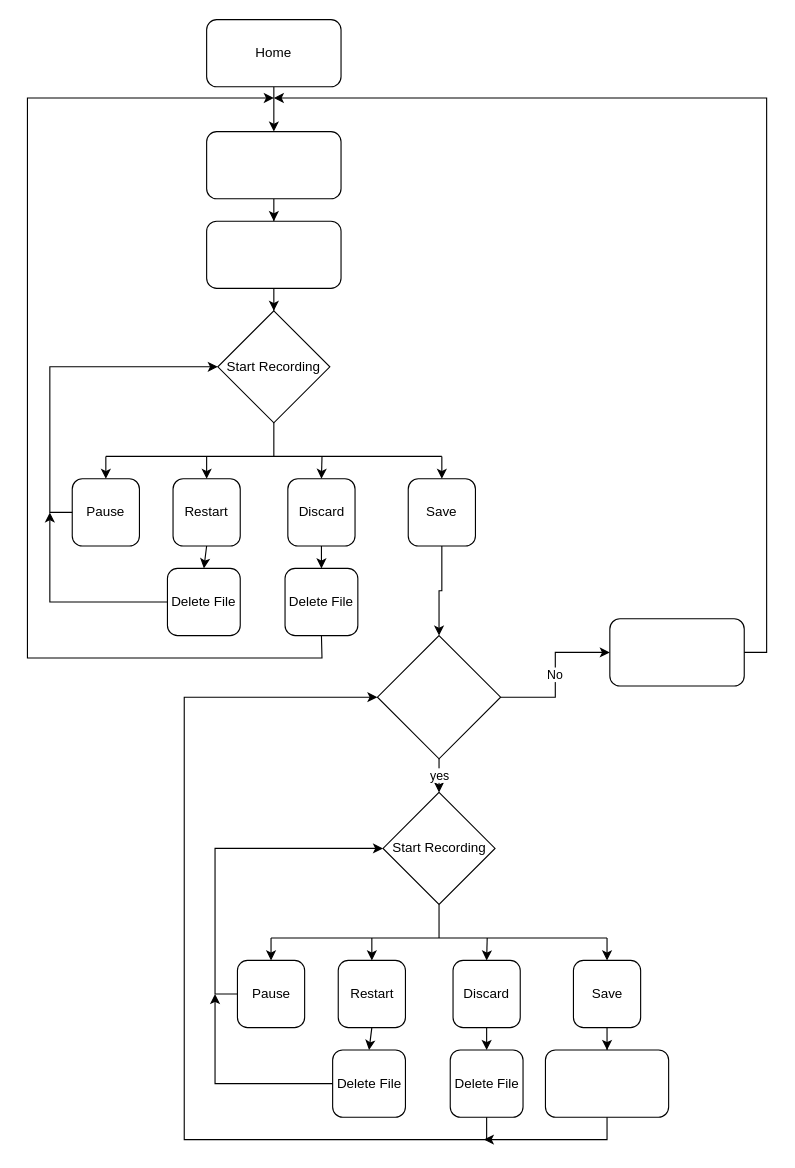
Some shapes in this 795 by 1168 pixel diagram are drawn without their labels. The shapes that lost their labels are listed below. From the top down, each one's centre as x and y in pixels, then its label:
point (273, 164): Press "Record"
point (273, 254): Select to record Audio or Video
point (676, 652): Save MP4 File In Directory
point (438, 696): Record Audio?
point (606, 1083): Add Audio Track to MP4 File
